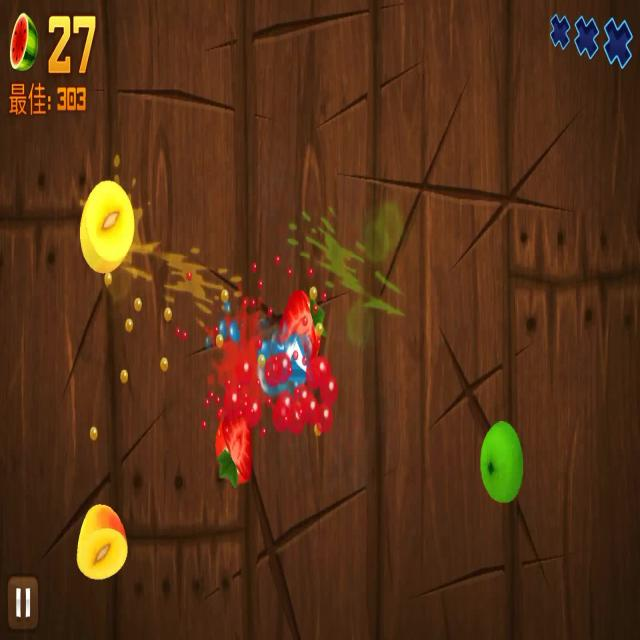fruit: (80, 180, 133, 274), (478, 420, 525, 506), (76, 504, 126, 581), (277, 287, 323, 366), (214, 403, 254, 487)
